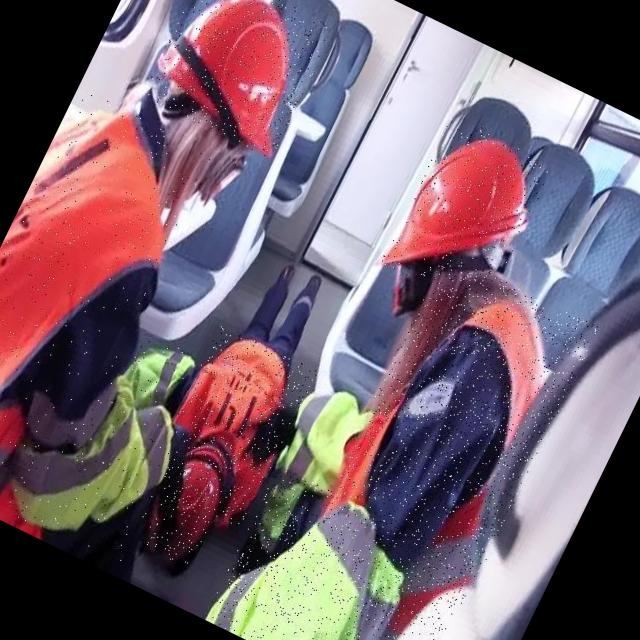hard_hat: (380, 114, 555, 312), (141, 0, 335, 159), (138, 432, 242, 569)
safety_vest: (269, 251, 599, 640), (0, 87, 215, 531), (203, 465, 429, 640), (0, 357, 191, 564), (142, 324, 318, 532), (257, 371, 378, 526), (117, 332, 196, 415)
